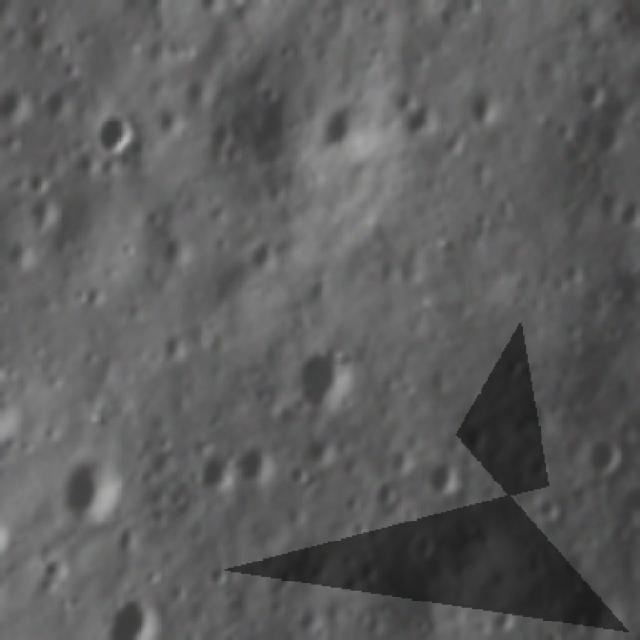crater: (291, 334, 366, 424), (56, 449, 132, 531), (319, 94, 383, 168), (99, 577, 173, 640), (86, 100, 152, 166), (419, 453, 470, 505), (232, 435, 276, 493), (194, 447, 237, 499), (465, 78, 510, 127), (240, 228, 282, 280), (582, 430, 626, 479), (398, 90, 439, 142), (0, 79, 37, 133), (480, 597, 525, 640), (585, 111, 627, 157), (294, 428, 335, 474), (404, 521, 444, 568), (568, 75, 609, 117), (368, 475, 406, 513), (202, 559, 238, 598), (612, 191, 640, 238), (36, 554, 70, 589), (23, 163, 54, 199)
